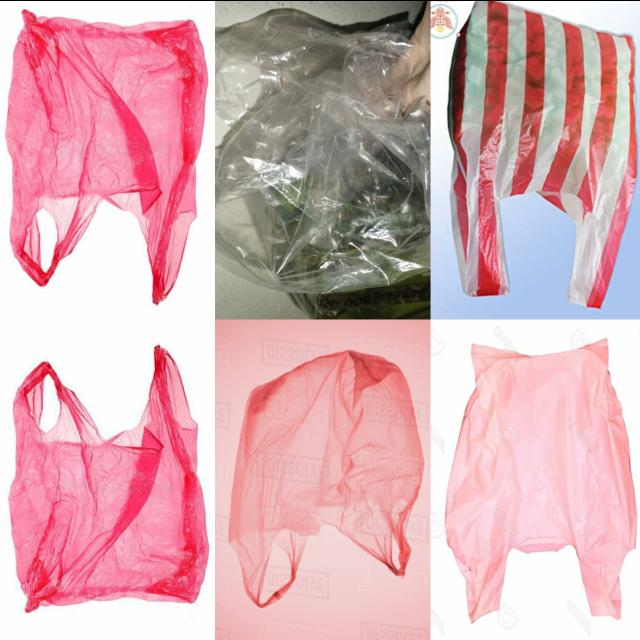plastik: (215, 10, 429, 292), (6, 9, 208, 302), (449, 0, 636, 306), (445, 338, 636, 620), (10, 345, 208, 611), (229, 349, 424, 606)
